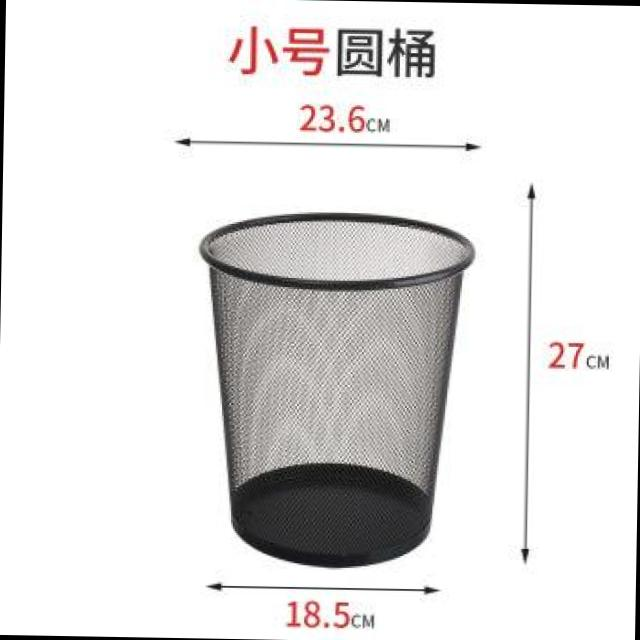dustbin: (186, 201, 482, 571)
